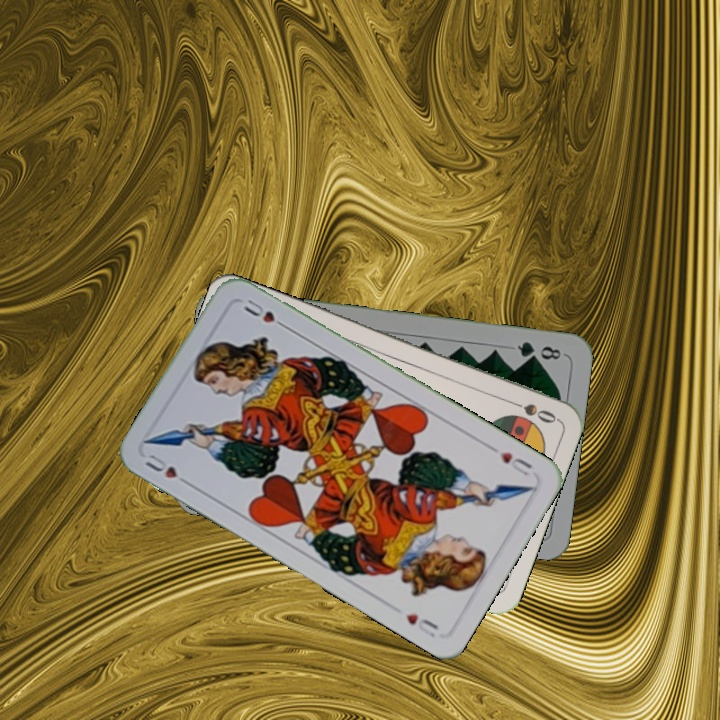G8: (513, 337, 567, 363)
HU: (141, 450, 194, 489), (485, 442, 536, 479)
SO: (502, 395, 559, 426)
